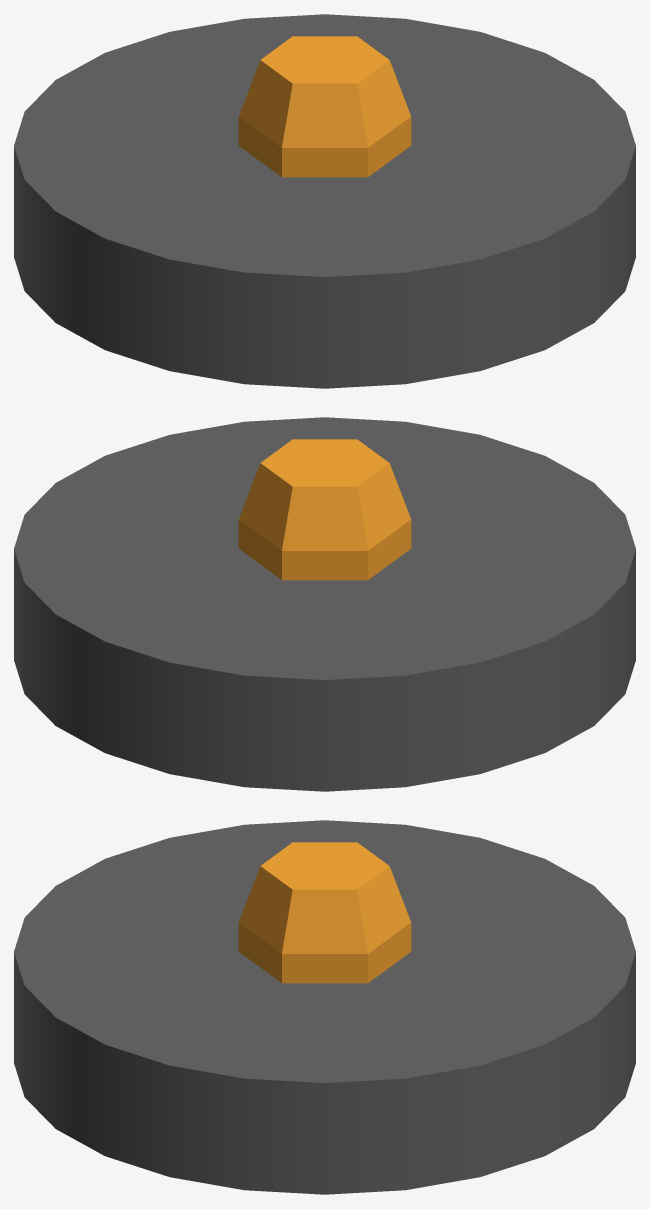
Rendered from gems_topaz_1.obj.
The picture shows the model from 3 angles, top to bottom: view 1: azimuth 30°, elevation 25°; view 2: azimuth 150°, elevation 25°; view 3: azimuth 270°, elevation 25°; orthographic projection.
Parts seen in each view (by area): view 1: mergedBlocks; view 2: mergedBlocks; view 3: mergedBlocks.
Part boxes in pixels (x1,y1,x2,y2): mergedBlocks: (14,14,635,388); mergedBlocks: (14,417,635,791); mergedBlocks: (14,820,635,1194).
Bounding box in the file's own units: 1 × 0.35 × 1.
